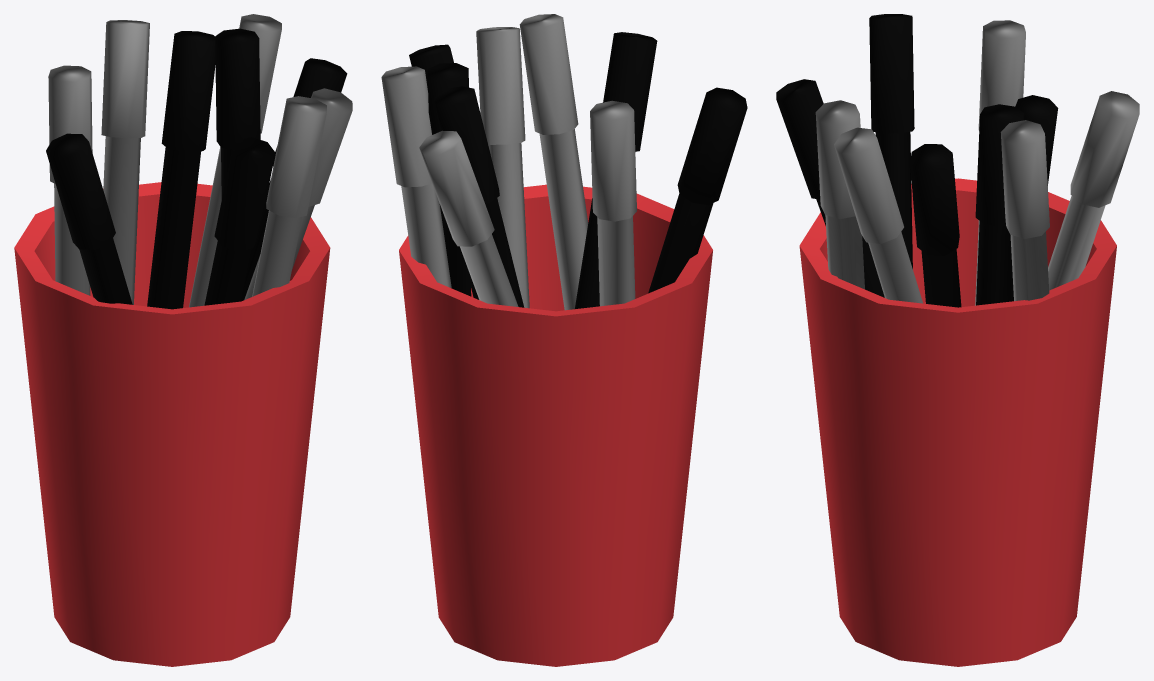
The model's file is Pen_Holder.fbx.
3 views of the same model, side by side, from view 1: azimuth 30°, elevation 25°; view 2: azimuth 150°, elevation 25°; view 3: azimuth 270°, elevation 25° (orthographic).
Visible parts, largest first — view 1: Pen Cup, Pens, Pens.001; view 2: Pen Cup, Pens.001, Pens; view 3: Pen Cup, Pens.001, Pens.
Part boxes in pixels (x1,y1,x2,y2): Pen Cup: (14,182,330,666); Pens: (46,28,347,309); Pens.001: (48,14,352,307); Pen Cup: (399,184,712,666); Pens.001: (381,14,636,310); Pens: (409,32,747,308); Pen Cup: (799,178,1116,666); Pens.001: (815,20,1139,305); Pens: (776,14,1058,307).
Bounding box in the file's own units: 30.78 × 51.16 × 30.66.
